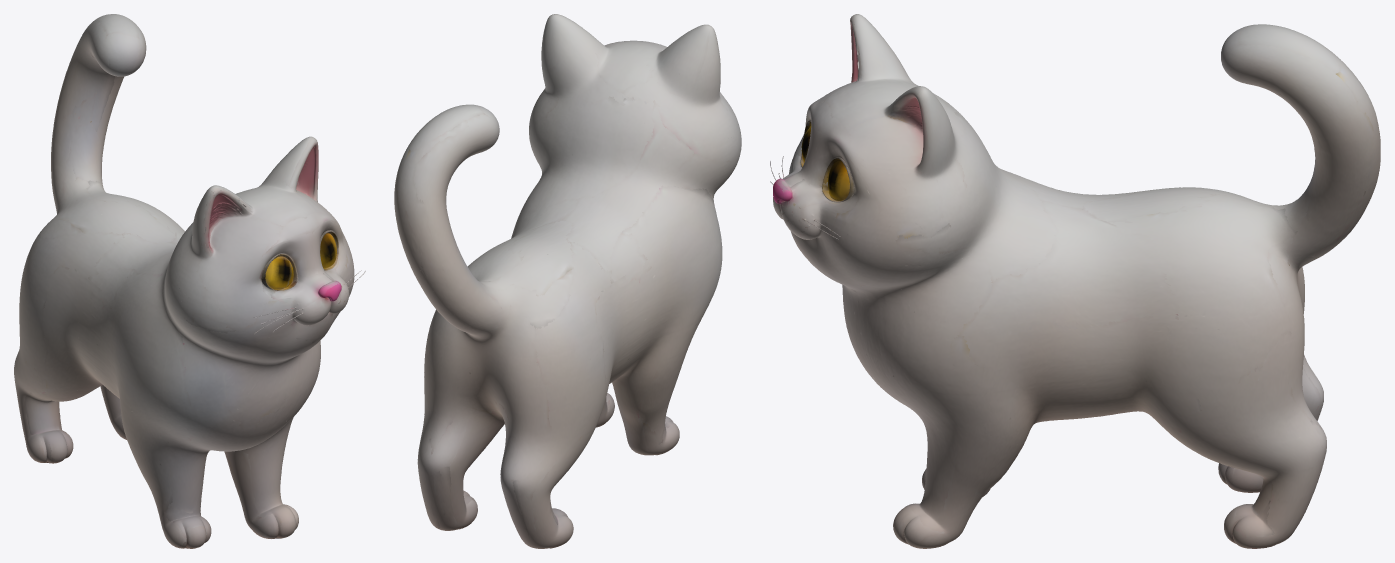
Rendered from hy3_cat_draco.glb.
The picture shows the model from 3 angles, left to right: view 1: azimuth 30°, elevation 25°; view 2: azimuth 150°, elevation 25°; view 3: azimuth 270°, elevation 25°; orthographic projection. The views are drawn at different scales.
Parts seen in each view (by area): view 1: material; view 2: material; view 3: material.
Boxes of the visible parts, x1,y1,x2,y2 form: material: (14, 14, 365, 548); material: (394, 14, 741, 548); material: (770, 14, 1380, 548).
Size of the model in its own units: 0.4364 by 0.9114 by 1.
Materials: 1 (1 with a texture image).
